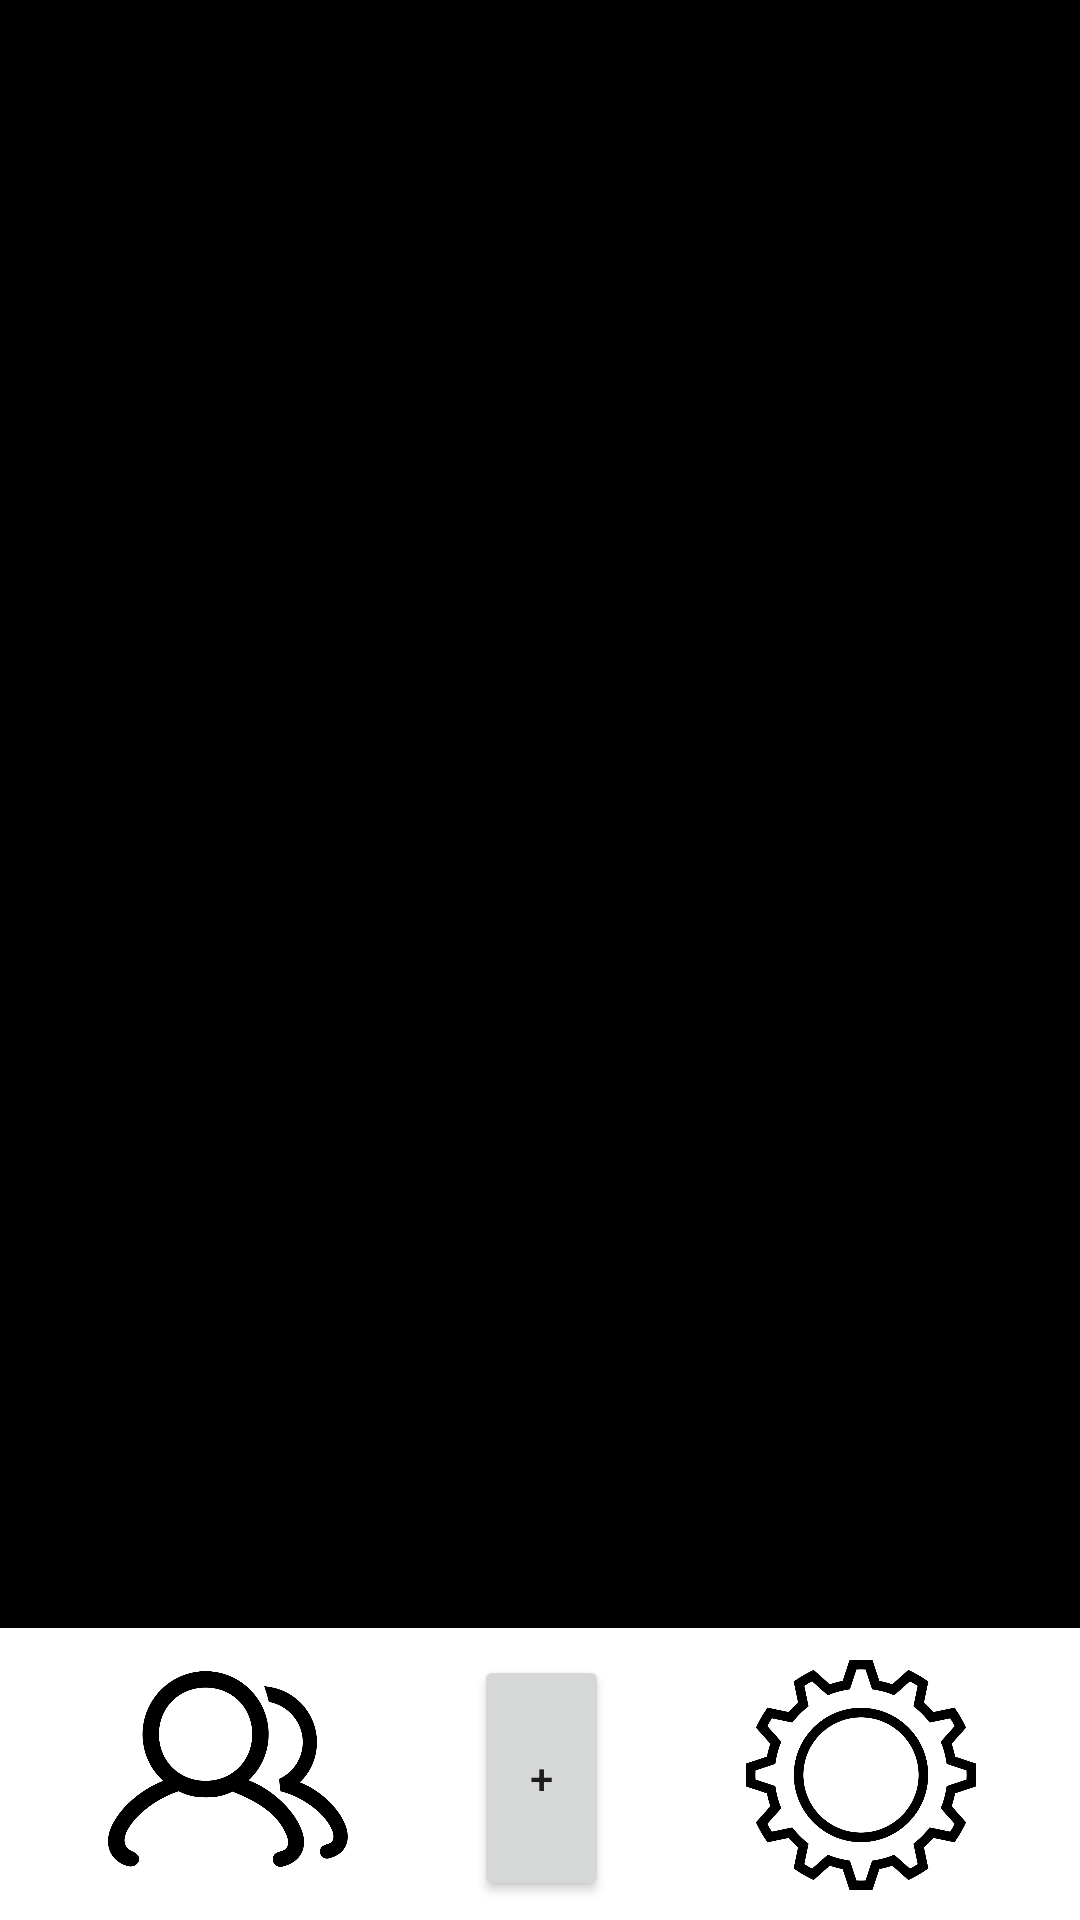

Icons on this 1080x1920 Android screen, each with its box as (x1, y1, x2, y2):
friends: (108, 1671, 348, 1867)
setting: (746, 1660, 976, 1890)
